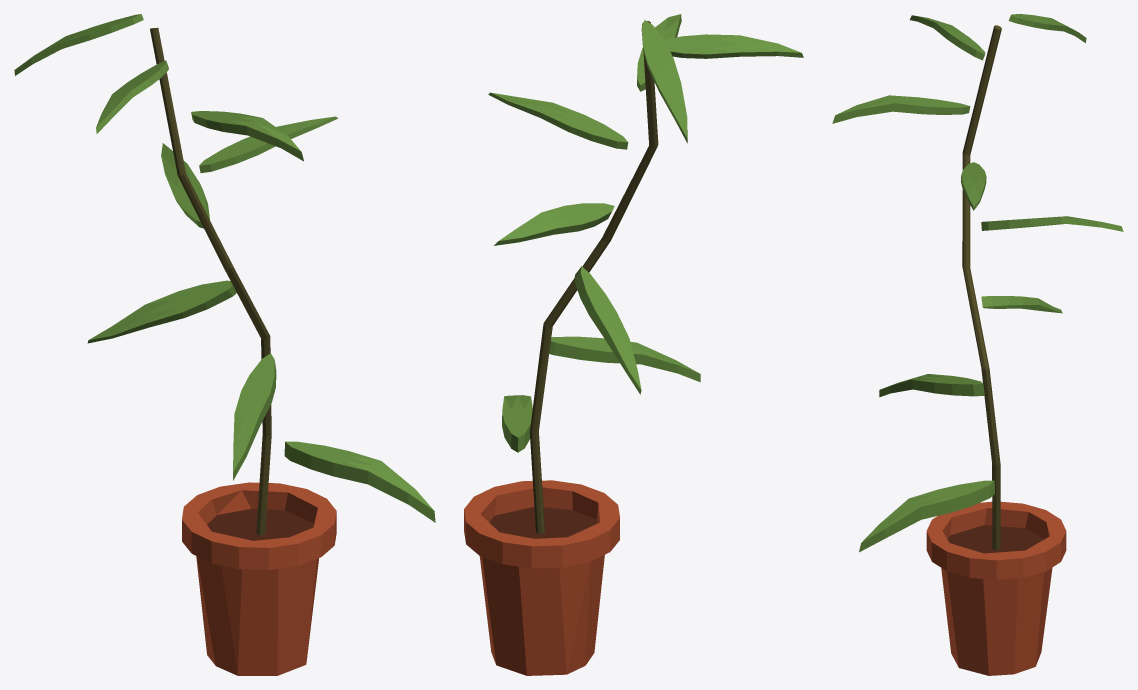
Rendered from plant_vase_2.fbx.
The picture shows the model from 3 angles, left to right: view 1: azimuth 30°, elevation 25°; view 2: azimuth 150°, elevation 25°; view 3: azimuth 270°, elevation 25°; orthographic projection. The views are drawn at different scales.
Visible parts, largest first — view 1: Cylinder.006; view 2: Cylinder.006; view 3: Cylinder.006.
Boxes of the visible parts, x1=… form: Cylinder.006: x1=14, y1=14, x2=435, y2=675; Cylinder.006: x1=464, y1=14, x2=803, y2=675; Cylinder.006: x1=832, y1=14, x2=1123, y2=675.
Size of the model in its own units: 118 by 240 by 107.
